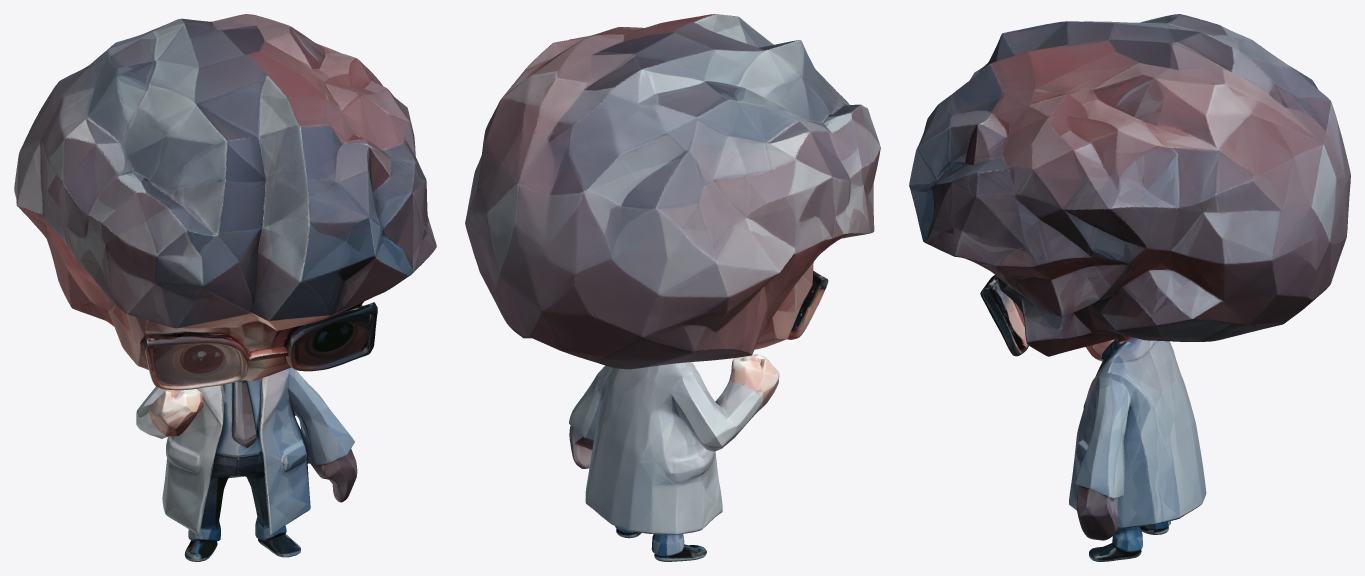
File: brand-brain.glb
The picture shows the model from 3 angles, left to right: view 1: azimuth 30°, elevation 25°; view 2: azimuth 150°, elevation 25°; view 3: azimuth 270°, elevation 25°; orthographic projection.
Visible parts, largest first — view 1: input; view 2: input; view 3: input.
Boxes of the visible parts, x1,y1,x2,y2 form: input: (14, 14, 436, 561); input: (465, 14, 880, 561); input: (909, 14, 1350, 561).
Bounding box in the file's own units: 0.6883 × 0.9998 × 0.7999.
Materials: 1 (1 with a texture image).
